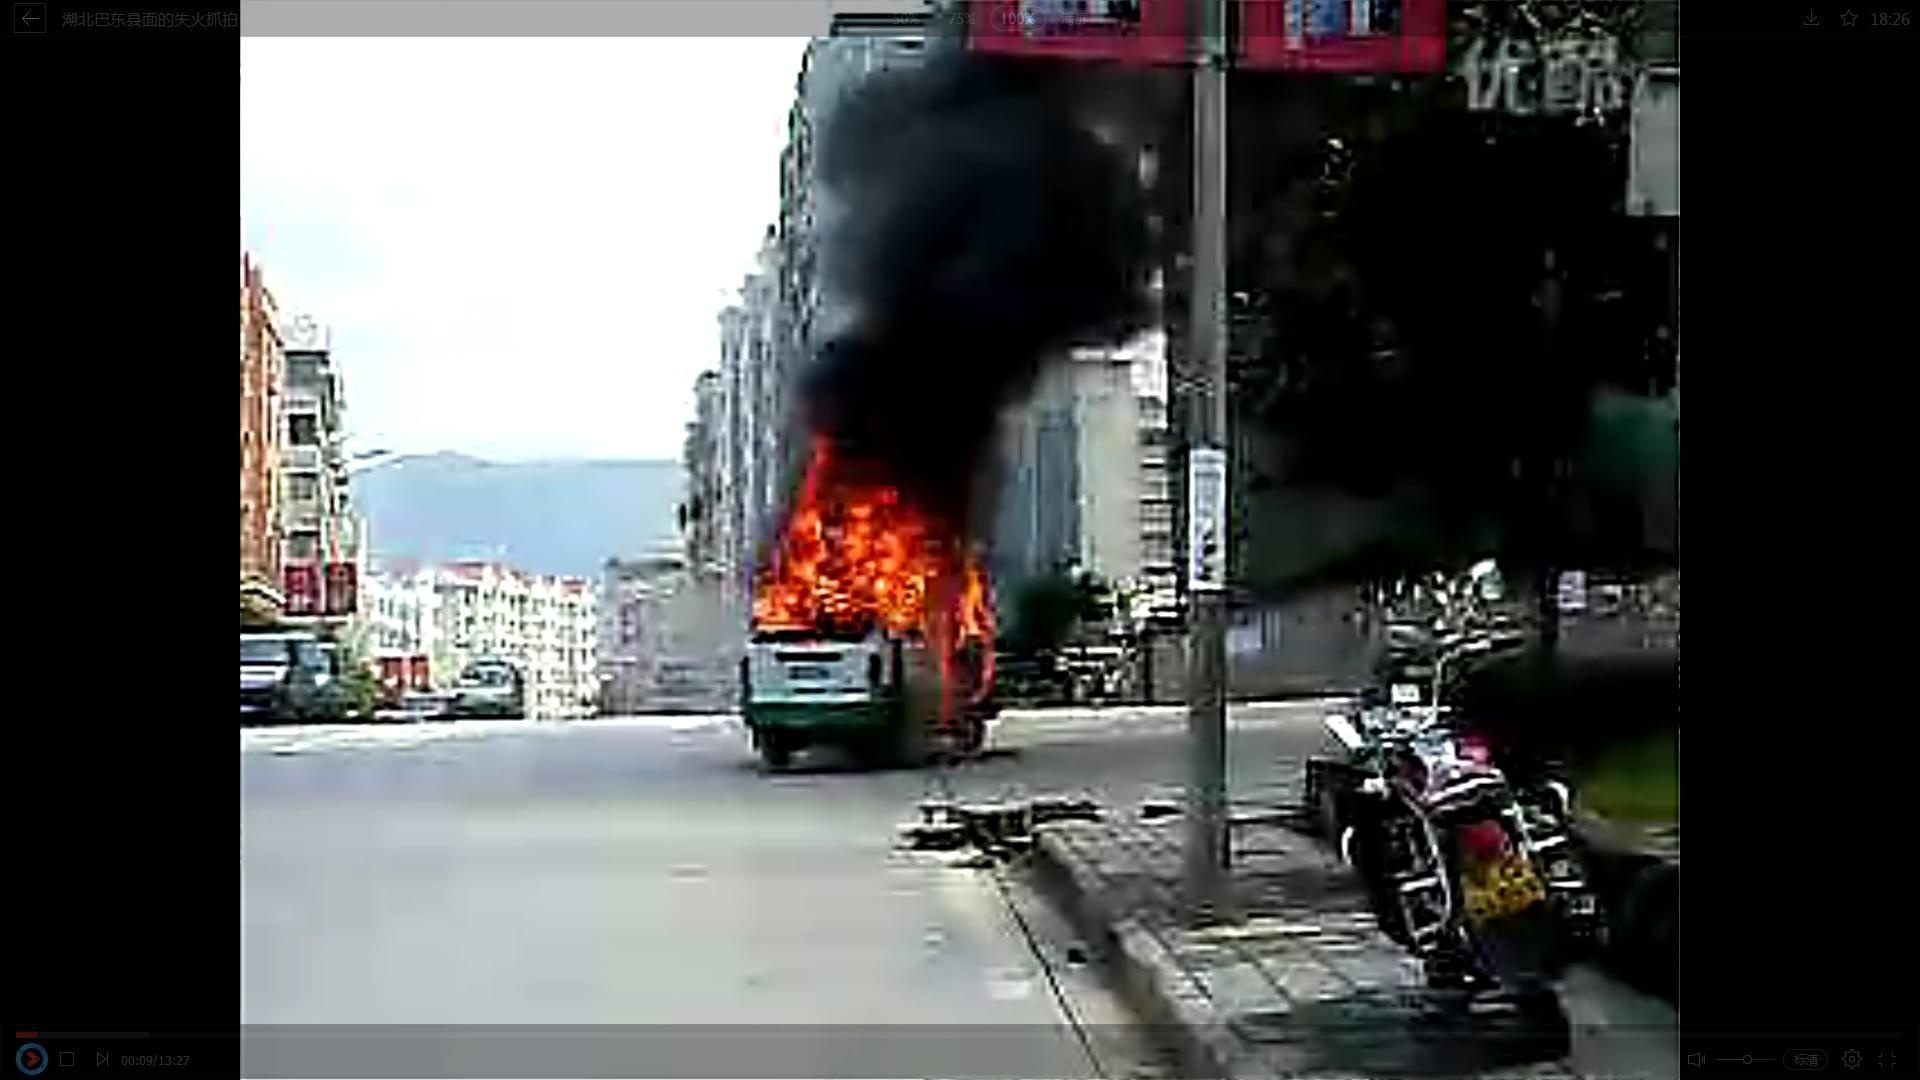fire: (757, 448, 1001, 655)
